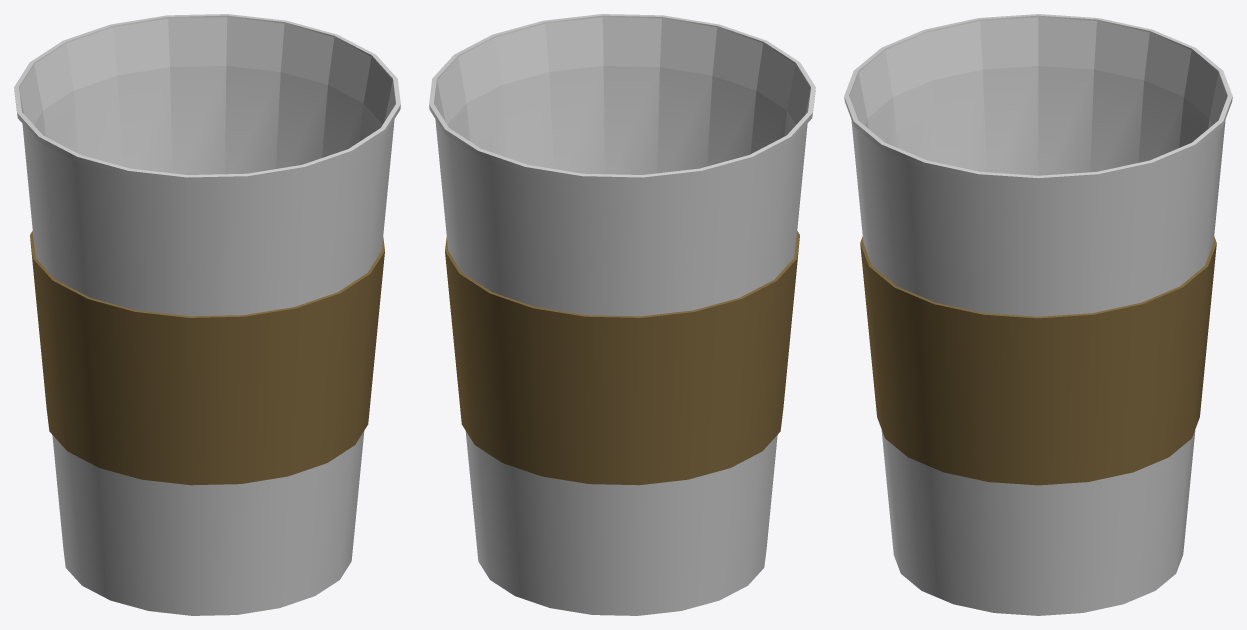
The model's file is coffee_cup_with_no_labels.fbx.
The picture shows the model from 3 angles, left to right: view 1: azimuth 30°, elevation 25°; view 2: azimuth 150°, elevation 25°; view 3: azimuth 270°, elevation 25°; orthographic projection.
Parts seen in each view (by area): view 1: pCylinder2; view 2: pCylinder2; view 3: pCylinder2.
Part boxes in pixels (x1,y1,x2,y2): pCylinder2: (14,14,400,615); pCylinder2: (429,14,815,615); pCylinder2: (844,14,1232,615).
Bounding box in the file's own units: 2.41 × 3.15 × 2.41.
